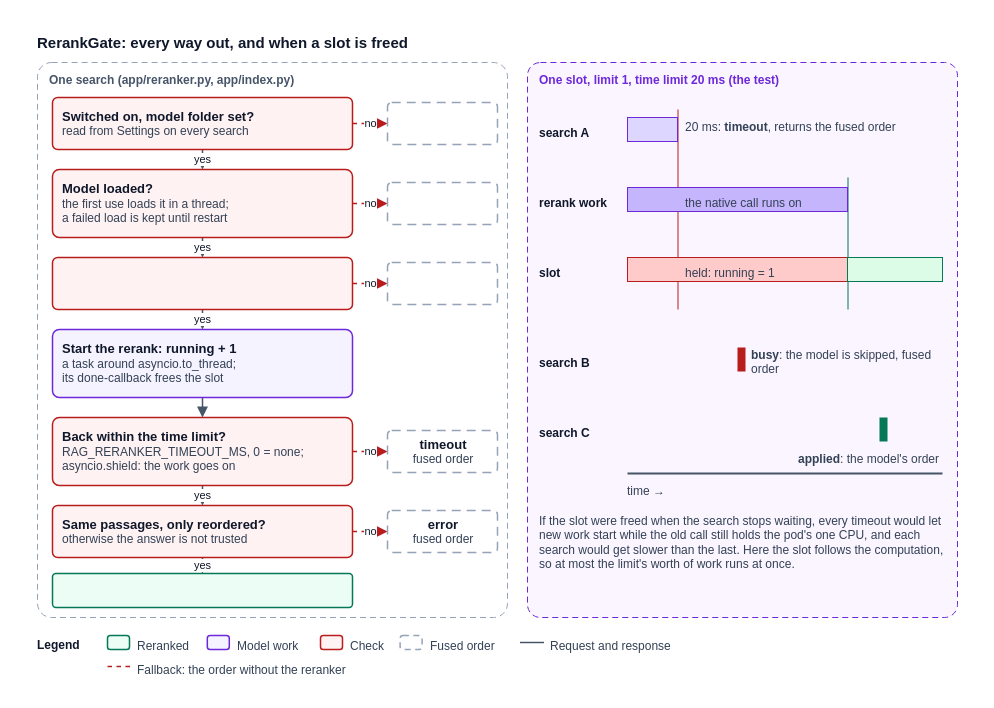
The diagram is 994 pixels wide and 708 high, and some of its shapes have lost their labels. The centre of each missing label's shape, as x and y in pixels:
applied: the model's order: (202,590)
Below the reranks-at-once limit? RAG_RERANKER_MAX_CONCURRENT, 0 = none: (202,283)
busy fused order: (442,283)
free: (894,269)
not called fused order: (442,123)
unavailable fused order: (442,203)
